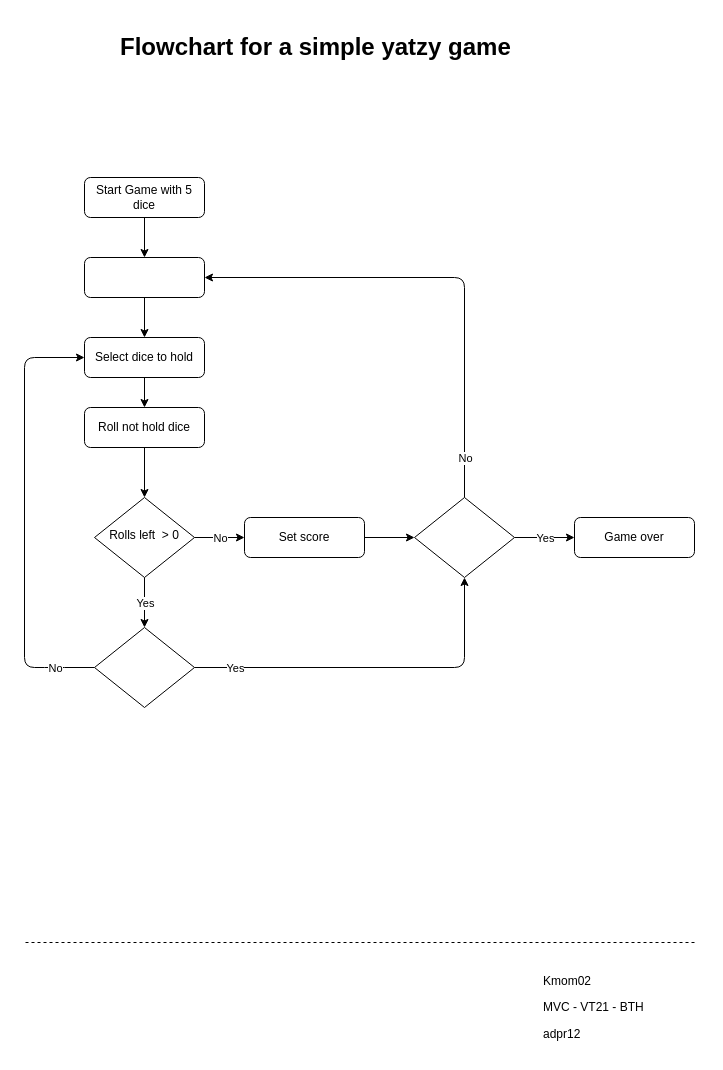
The diagram is 723 pixels wide and 1070 high, and some of its shapes have lost their labels. Here are the shapes that lost their labels. From the top down, the centre of each, then its label:
the point at 144,277: Roll all dice
the point at 464,537: Scoreboard full?
the point at 144,667: Set score?
